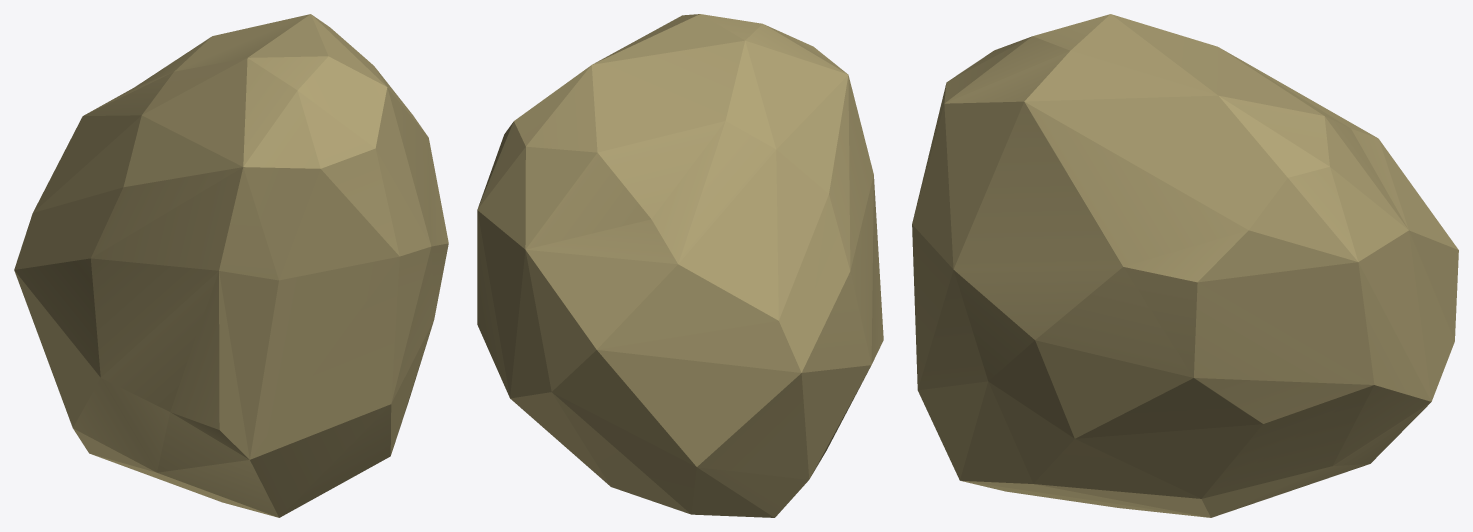
Rendered from SM_small_rock_18.fbx.
The picture shows the model from 3 angles, left to right: view 1: azimuth 30°, elevation 25°; view 2: azimuth 150°, elevation 25°; view 3: azimuth 270°, elevation 25°; orthographic projection. The views are drawn at different scales.
Parts seen in each view (by area): view 1: small_rock_18; view 2: small_rock_18; view 3: small_rock_18.
Boxes of the visible parts, <box> form: small_rock_18: <box>14,14,448,517</box>; small_rock_18: <box>477,14,883,517</box>; small_rock_18: <box>912,14,1458,517</box>.
Size of the model in its own units: 61.16 by 73.93 by 72.36.
